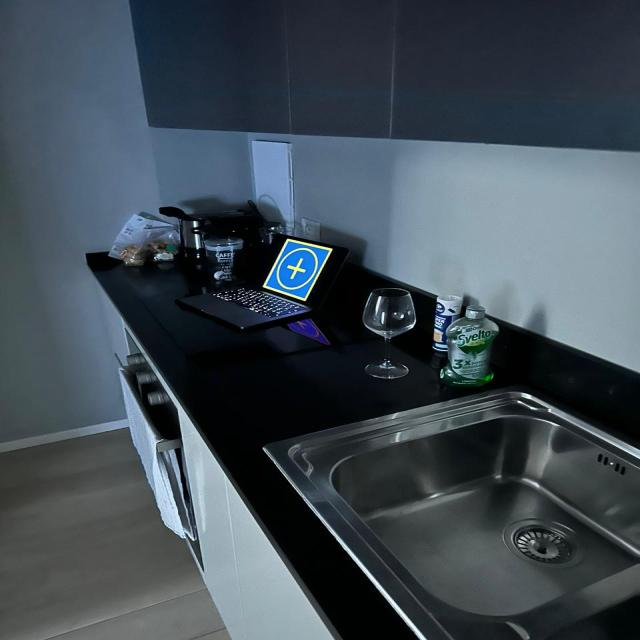Marker: (262, 231, 334, 303)
